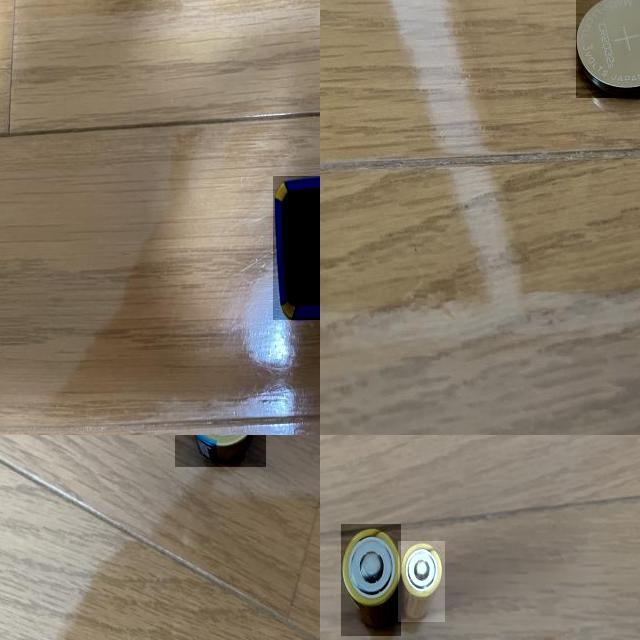9V: (273, 176, 320, 320)
